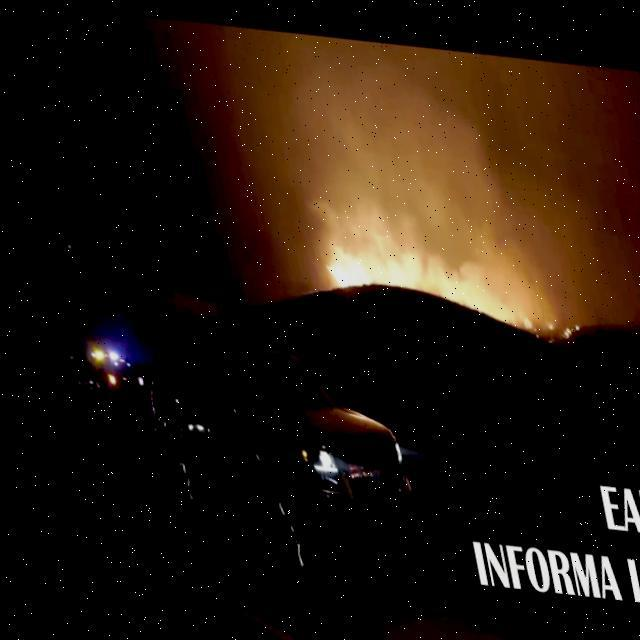Fire: (310, 235, 530, 331), (550, 310, 572, 329), (536, 312, 545, 318)
